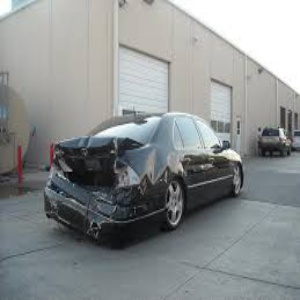bonnet: (56, 134, 126, 169)
bumper: (78, 197, 127, 239)
